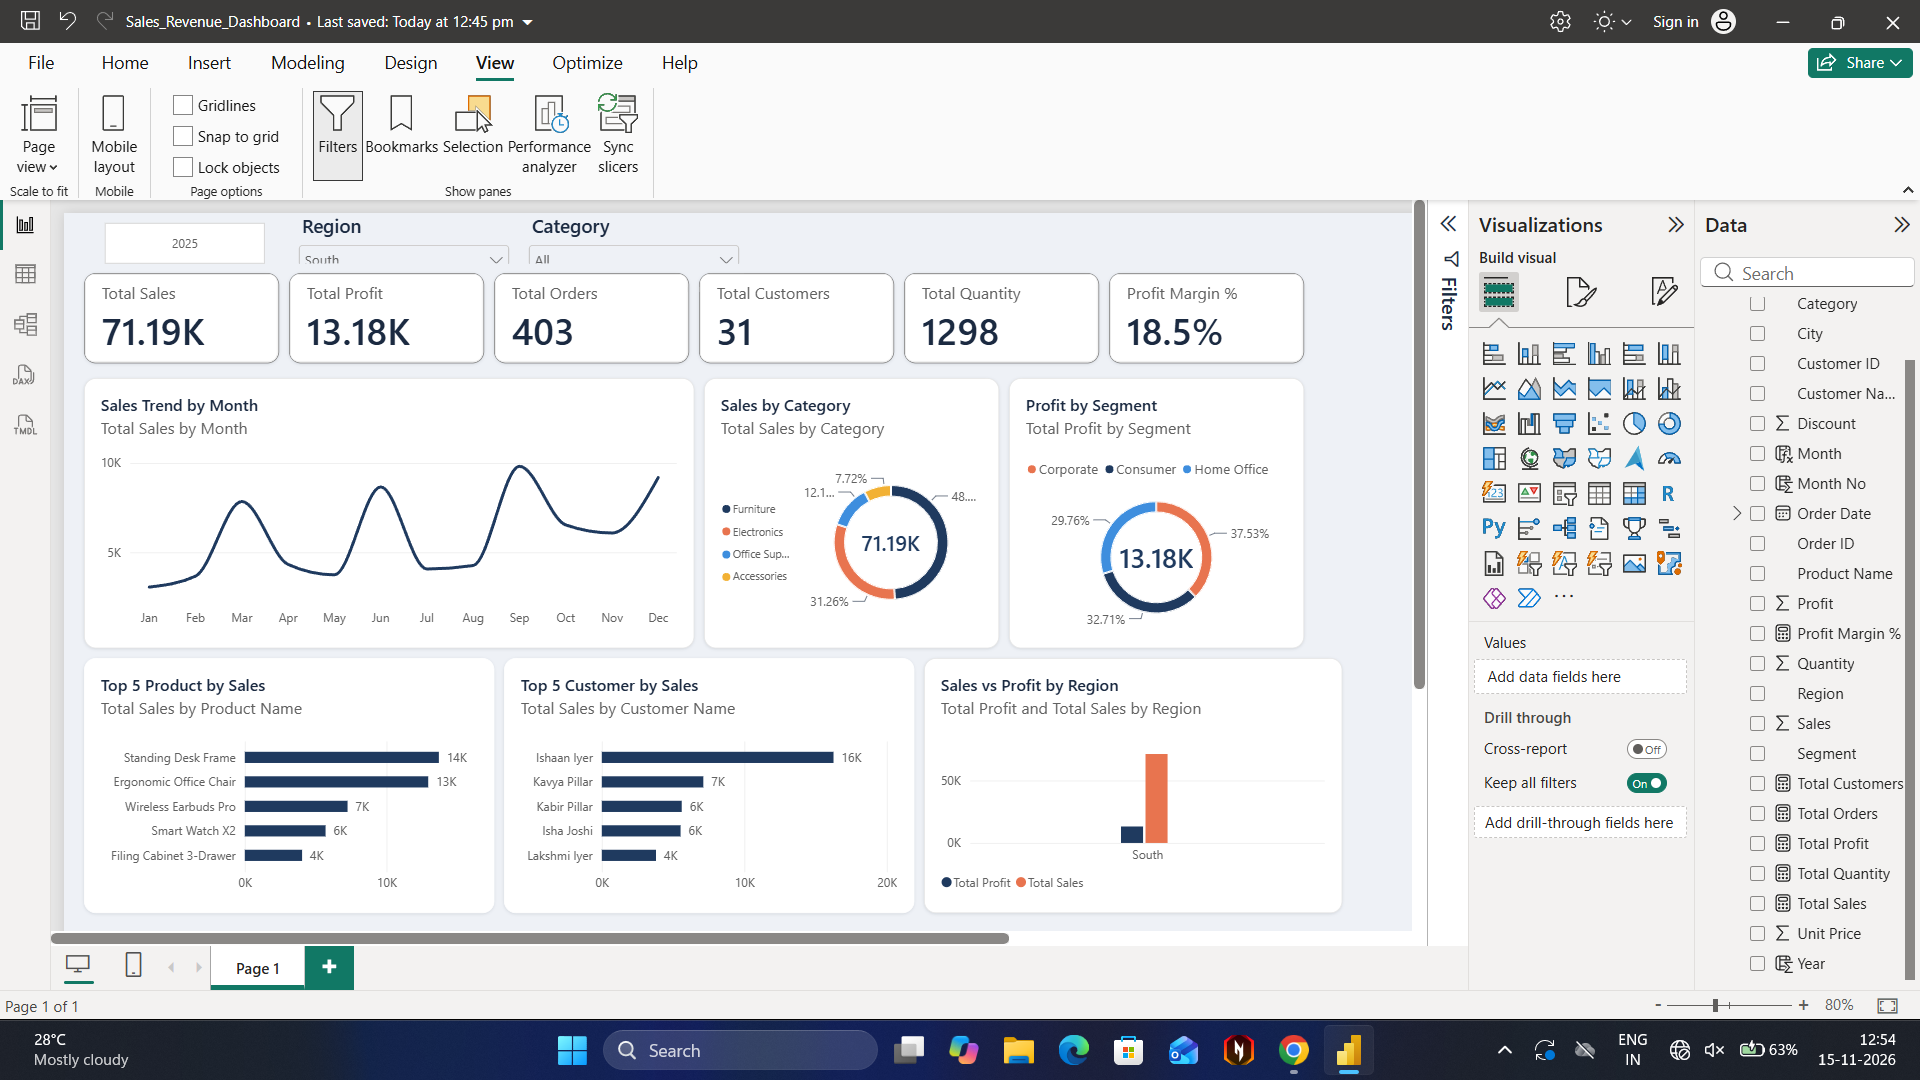

The page's visual inventory and layout, read from the dashboard file:
{"tool":"powerbi","page":{"name":"Sales Dashboard","canvas":[1920,1080],"ordinal":0},"visuals":[{"type":"cardVisual","fields":{"Data":["sales_data.Total Sales"]},"box":[20,60,195,90],"z":0},{"type":"cardVisual","fields":{"Data":["sales_data.Total Profit"]},"box":[225,60,195,90],"z":1000},{"type":"cardVisual","fields":{"Data":["sales_data.Total Orders"]},"box":[430,60,195,90],"z":2000},{"type":"cardVisual","fields":{"Data":["sales_data.Total Customers"]},"box":[635,60,195,90],"z":3000},{"type":"cardVisual","fields":{"Data":["sales_data.Total Quantity"]},"box":[840,60,195,90],"z":4000},{"type":"cardVisual","fields":{"Data":["sales_data.Profit Margin %"]},"box":[1045,60,195,90],"z":5000},{"type":"lineChart","title":"Sales Trend by Month","fields":{"Category":["sales_data.Month"],"Y":["sales_data.Total Sales"]},"box":[20,165,610,270],"z":6000},{"type":"donutChart","title":"Sales by Category","fields":{"Category":["sales_data.Category"],"Y":["sales_data.Total Sales"]},"box":[640,165,295,270],"z":7000},{"type":"donutChart","title":"Profit by Segment","fields":{"Category":["sales_data.Segment"],"Y":["sales_data.Total Profit"]},"box":[945,165,295,270],"z":8000},{"type":"clusteredBarChart","title":"Top 5 Product by Sales","fields":{"Category":["sales_data.Product Name"],"Y":["sales_data.Total Sales"]},"box":[20,445,410,255],"z":9000},{"type":"clusteredBarChart","title":"Top 5 Customer by Sales","fields":{"Category":["sales_data.Customer Name"],"Y":["sales_data.Total Sales"]},"box":[440,445,410,255],"z":10000},{"type":"clusteredColumnChart","title":"Sales vs Profit by Region","fields":{"Category":["sales_data.Region"],"Y":["sales_data.Total Profit","sales_data.Total Sales"]},"box":[859.6,445.2,418,255.2],"z":10001},{"type":"slicer","fields":{"Values":["sales_data.Year"]},"box":[20,8,200,45],"z":10002},{"type":"slicer","fields":{"Values":["sales_data.Region"]},"box":[230,0,220,50],"z":10003},{"type":"slicer","fields":{"Values":["sales_data.Category"]},"box":[460,0,220,50],"z":10004}]}

Visuals, with their boxes on the page's 1920x1080 design canvas (x1, y1, x2, y2). These are canvas units, not pixel positions in the 1920x1080 screenshot, which may show the page scaled, cropped or inside an application window:
cardVisual - sales_data.Total Sales: {"x1": 20, "y1": 60, "x2": 215, "y2": 150}
cardVisual - sales_data.Total Profit: {"x1": 225, "y1": 60, "x2": 420, "y2": 150}
cardVisual - sales_data.Total Orders: {"x1": 430, "y1": 60, "x2": 625, "y2": 150}
cardVisual - sales_data.Total Customers: {"x1": 635, "y1": 60, "x2": 830, "y2": 150}
cardVisual - sales_data.Total Quantity: {"x1": 840, "y1": 60, "x2": 1035, "y2": 150}
cardVisual - sales_data.Profit Margin %: {"x1": 1045, "y1": 60, "x2": 1240, "y2": 150}
"Sales Trend by Month" lineChart: {"x1": 20, "y1": 165, "x2": 630, "y2": 435}
"Sales by Category" donutChart: {"x1": 640, "y1": 165, "x2": 935, "y2": 435}
"Profit by Segment" donutChart: {"x1": 945, "y1": 165, "x2": 1240, "y2": 435}
"Top 5 Product by Sales" clusteredBarChart: {"x1": 20, "y1": 445, "x2": 430, "y2": 700}
"Top 5 Customer by Sales" clusteredBarChart: {"x1": 440, "y1": 445, "x2": 850, "y2": 700}
"Sales vs Profit by Region" clusteredColumnChart: {"x1": 860, "y1": 445, "x2": 1278, "y2": 700}
slicer - sales_data.Year: {"x1": 20, "y1": 8, "x2": 220, "y2": 53}
slicer - sales_data.Region: {"x1": 230, "y1": 0, "x2": 450, "y2": 50}
slicer - sales_data.Category: {"x1": 460, "y1": 0, "x2": 680, "y2": 50}
